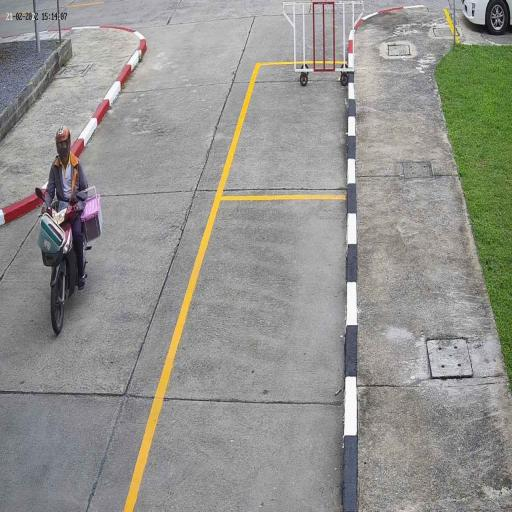motorcycle: (41, 200, 86, 339)
